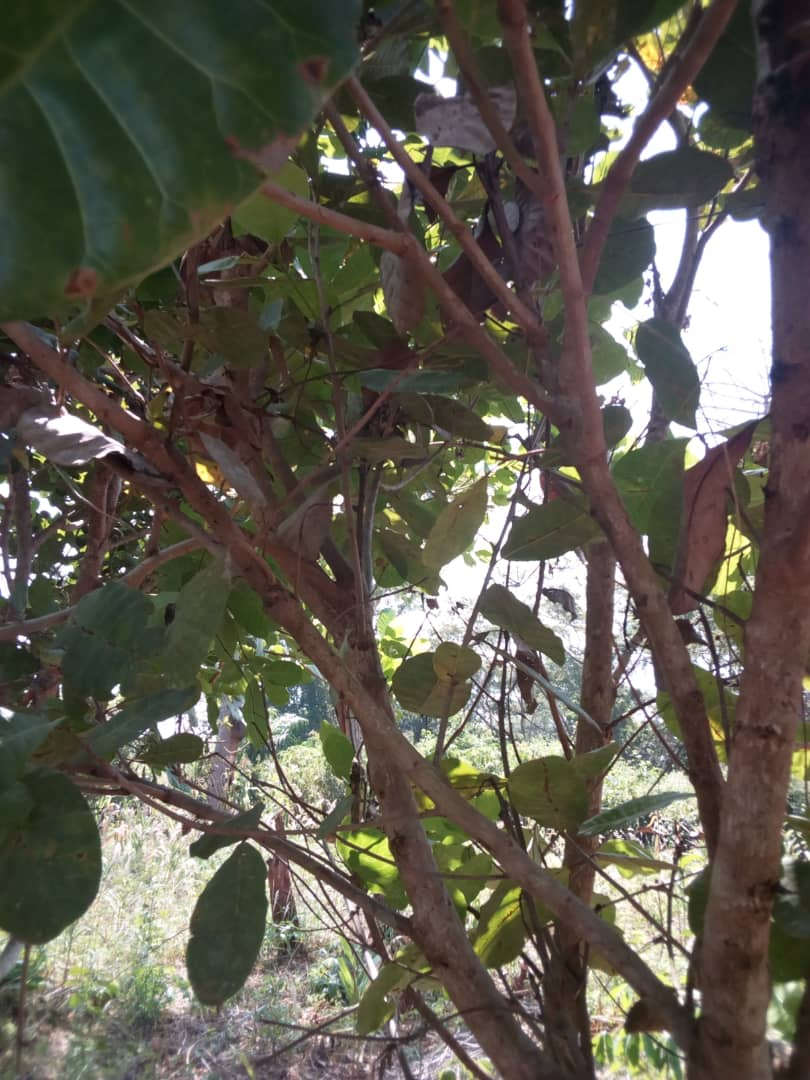Pestalotiose: (8, 797, 95, 943)
